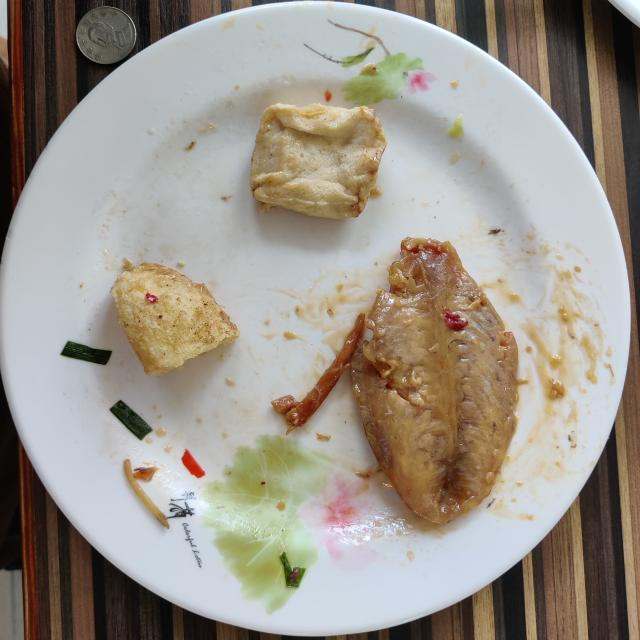Kabayaki sea bream fillet: (272, 238, 519, 522)
coin: (76, 6, 136, 64)
creamy tofu -without sauce-: (250, 104, 388, 219)
fried potato: (111, 262, 240, 376)
